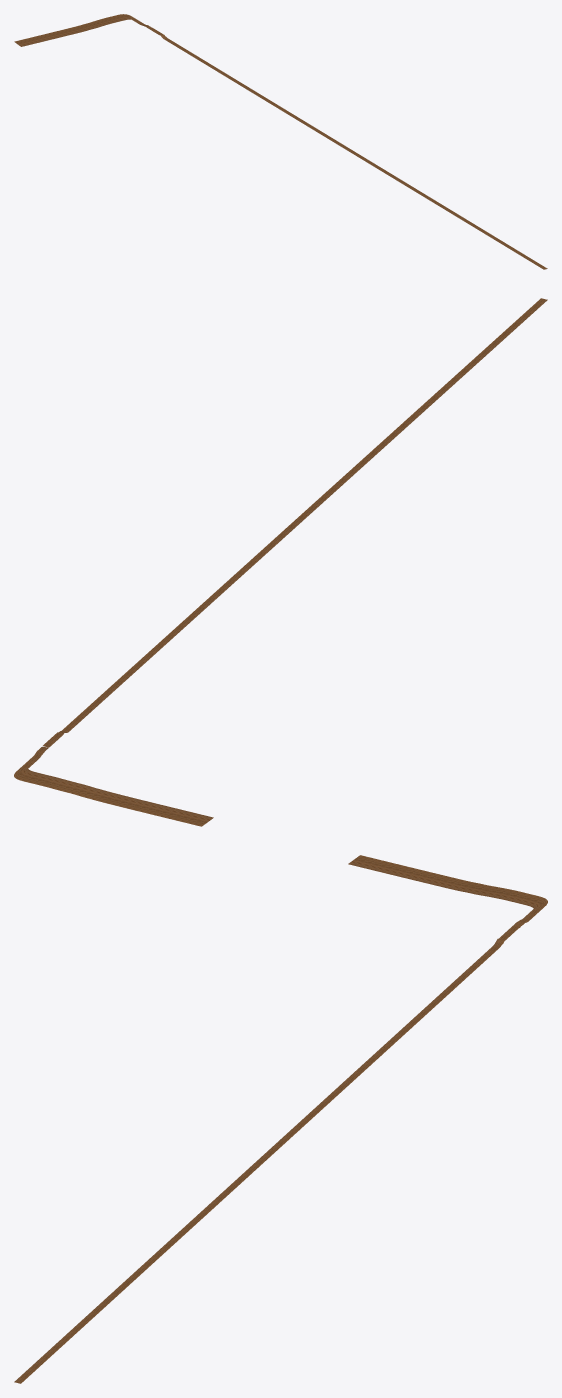
Rendered from road.glb.
3 views of the same model, one above another, from view 1: azimuth 30°, elevation 25°; view 2: azimuth 150°, elevation 25°; view 3: azimuth 330°, elevation 25° (orthographic). The views are drawn at different scales.
Visible parts, largest first — view 1: Plane; view 2: Plane; view 3: Plane.
Part boxes in pixels (x1,y1,x2,y2): Plane: (14,14,547,269); Plane: (14,298,547,826); Plane: (14,855,547,1383).
Bounding box in the file's own units: 240 × 4.07 × 908.
Materials: 1 (1 with a texture image).
